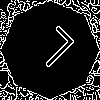L: (25, 25, 77, 77)
